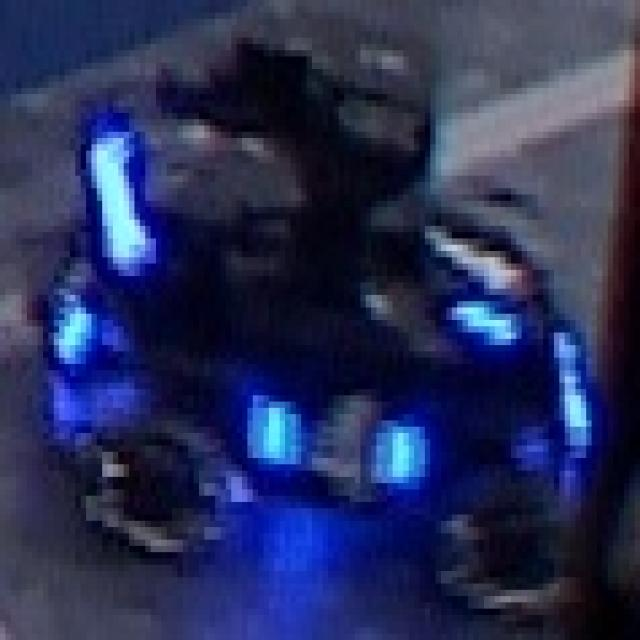B4: (242, 376, 420, 502)
